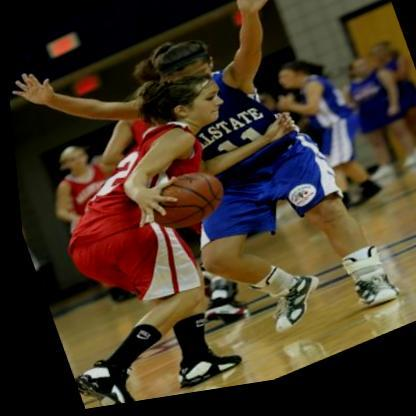basketball: (138, 166, 231, 246)
